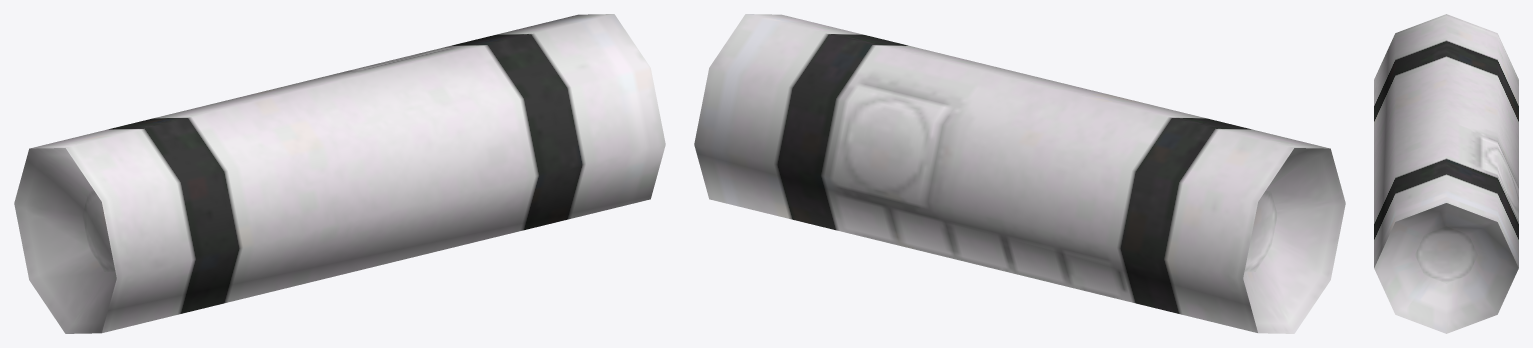
File: wp_grenade_imp_detonator_l0.fbx
The picture shows the model from 3 angles, left to right: view 1: azimuth 30°, elevation 25°; view 2: azimuth 150°, elevation 25°; view 3: azimuth 270°, elevation 25°; orthographic projection. The views are drawn at different scales.
Visible parts, largest first — view 1: mesh_node; view 2: mesh_node; view 3: mesh_node.
Part boxes in pixels (x1,y1,x2,y2): mesh_node: [14, 14, 665, 333]; mesh_node: [694, 14, 1345, 333]; mesh_node: [1374, 14, 1518, 333].
Size of the model in its own units: 0.2394 by 0.0775 by 0.0775.
1 material, 1 textured.
